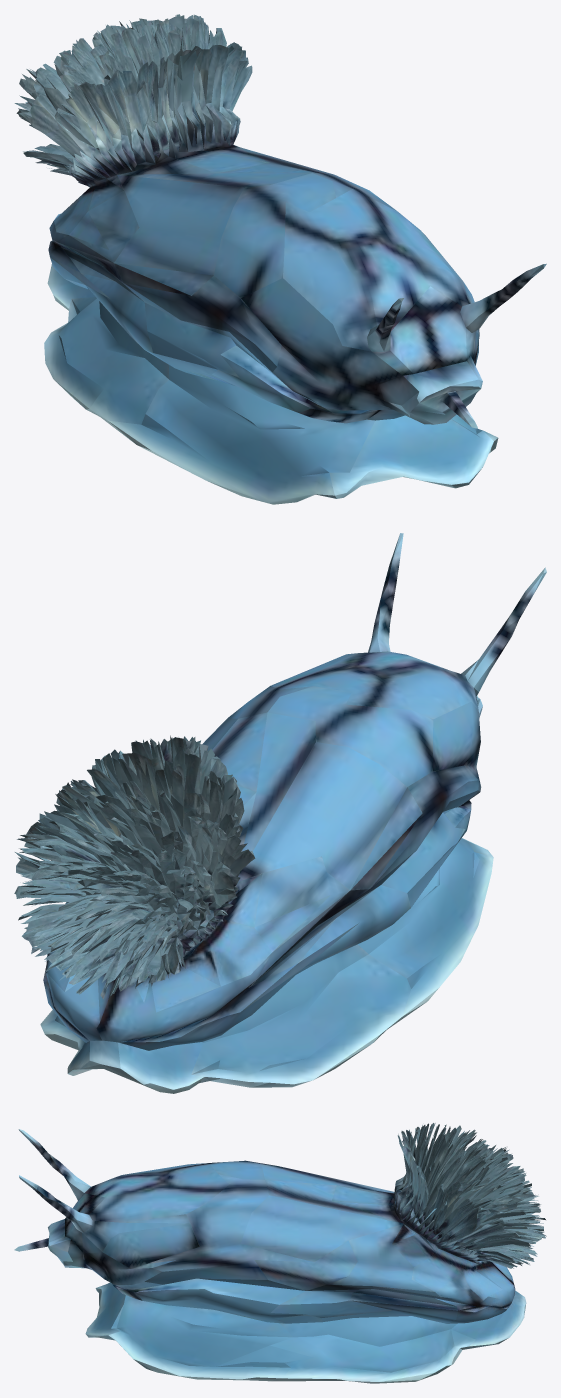
The model's file is nudibranch.glb.
The picture shows the model from 3 angles, top to bottom: view 1: azimuth 30°, elevation 25°; view 2: azimuth 150°, elevation 25°; view 3: azimuth 270°, elevation 25°; orthographic projection. The views are drawn at different scales.
Size of the model in its own units: 0.8231 by 0.8376 by 1.9.
1 material, 1 textured.
